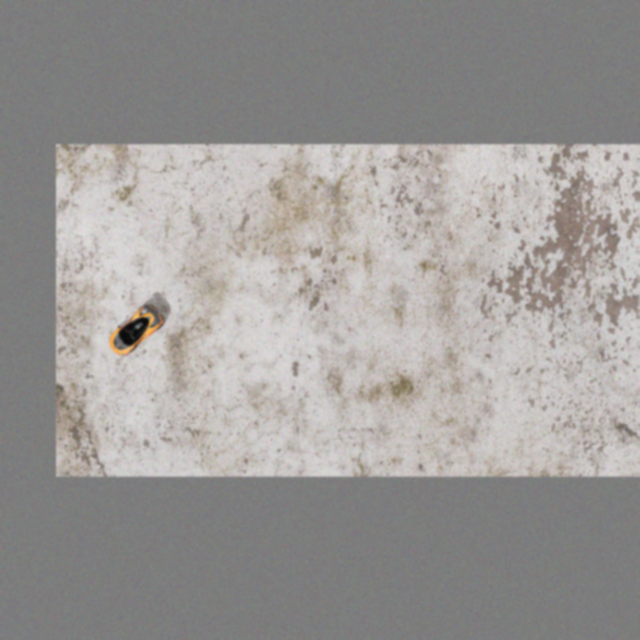car: (99, 300, 170, 362)
